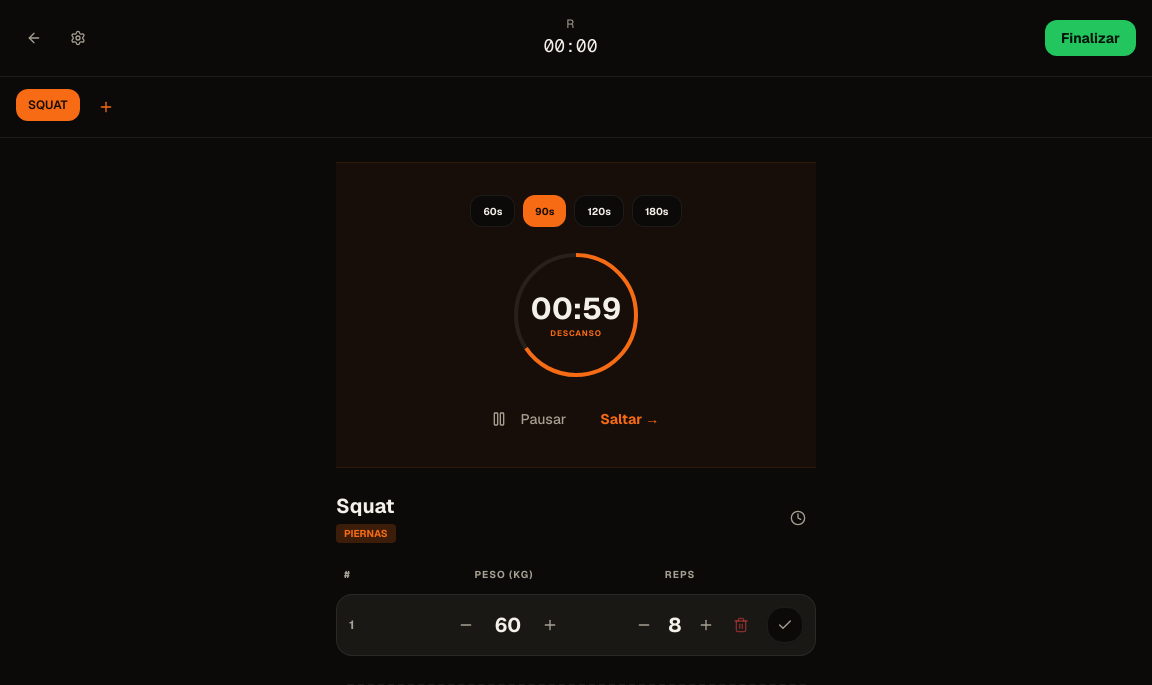
Test case: ActiveWorkout when the session no longer accepts writes › stops the running rest countdown when it ejects
Check: the text "Descanso" is shown, box [550, 327, 602, 339]
Click the button named "Completar set". click: (785, 625)
box: [767, 607, 803, 643]
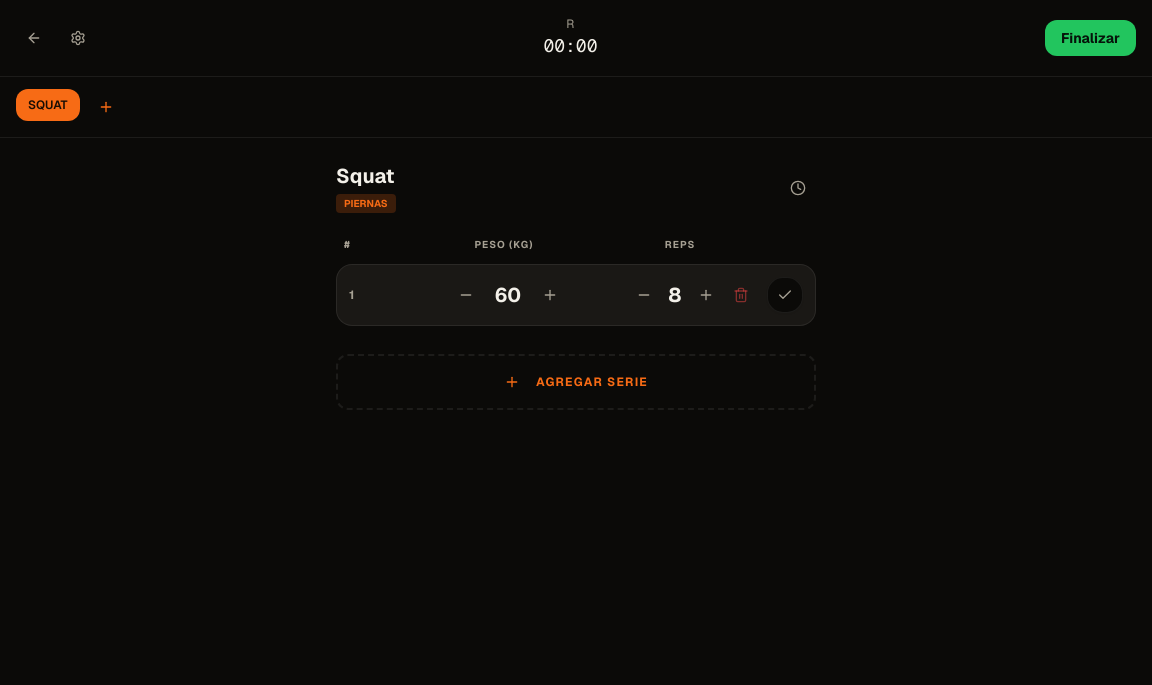
Check: the text "Descanso" is gone
